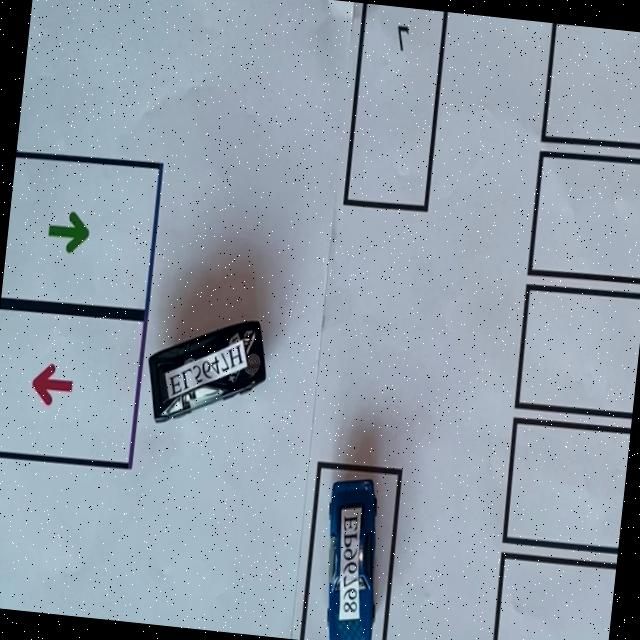car: (148, 320, 266, 421), (328, 479, 377, 640)
